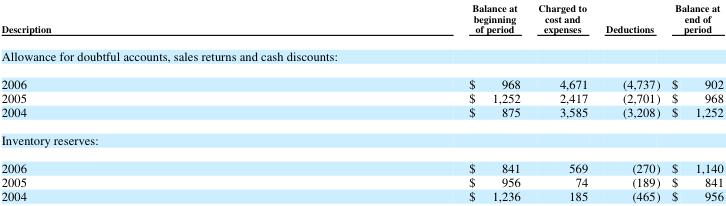table: (0, 0, 722, 203)
table column: (259, 0, 528, 203), (0, 0, 259, 203), (596, 0, 665, 203), (528, 0, 596, 203), (665, 0, 722, 203)
table column header: (0, 0, 722, 41)
table projected row header: (0, 41, 722, 69), (0, 125, 722, 153)
table row: (0, 0, 722, 41), (0, 41, 722, 69), (0, 125, 722, 153), (0, 69, 722, 90), (0, 104, 722, 125), (0, 153, 722, 173), (0, 173, 722, 188), (0, 188, 722, 203), (0, 90, 722, 104)
